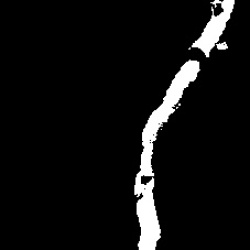crack: (134, 60, 199, 249), (192, 2, 235, 59)
